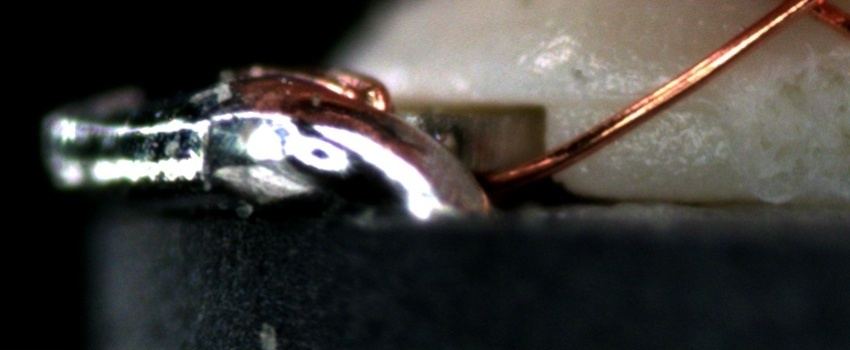CL: (767, 0, 845, 31)
DL: (562, 65, 723, 129)
TE: (270, 53, 395, 113)
